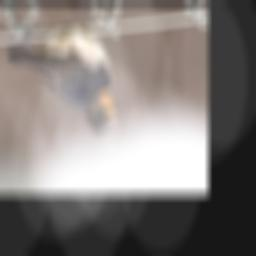Swallow: (5, 16, 121, 139)
